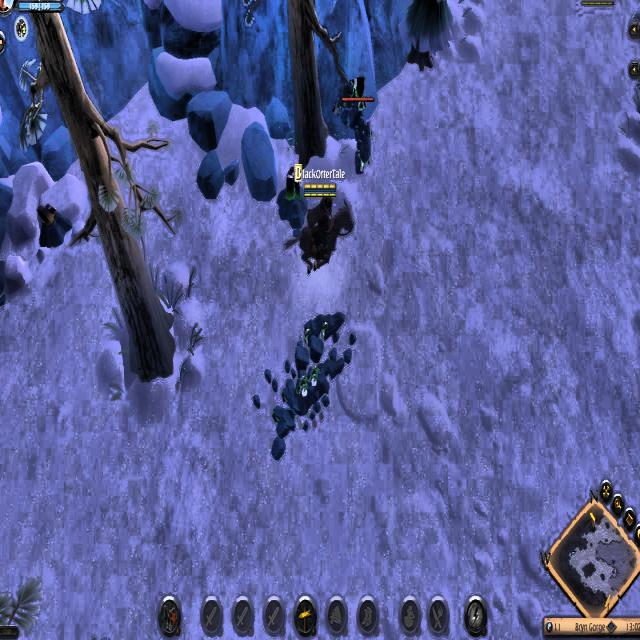copperore: (34, 199, 71, 253)
tinore: (276, 160, 310, 230)
